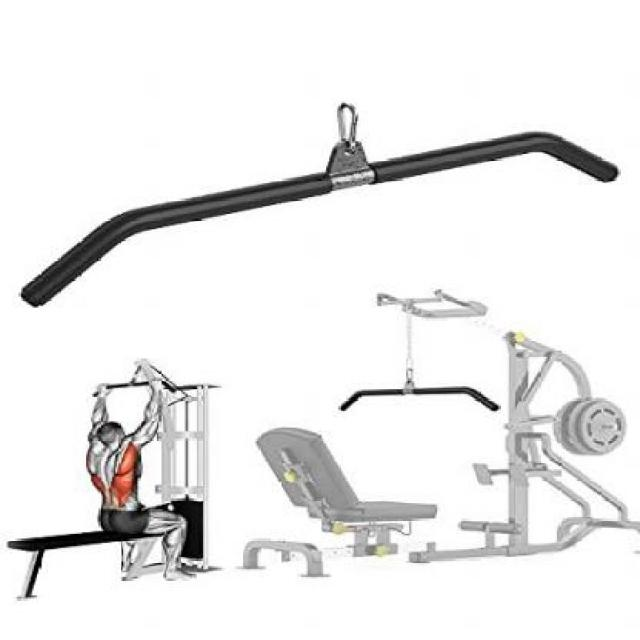Lat Pull Down: (0, 354, 240, 603)
